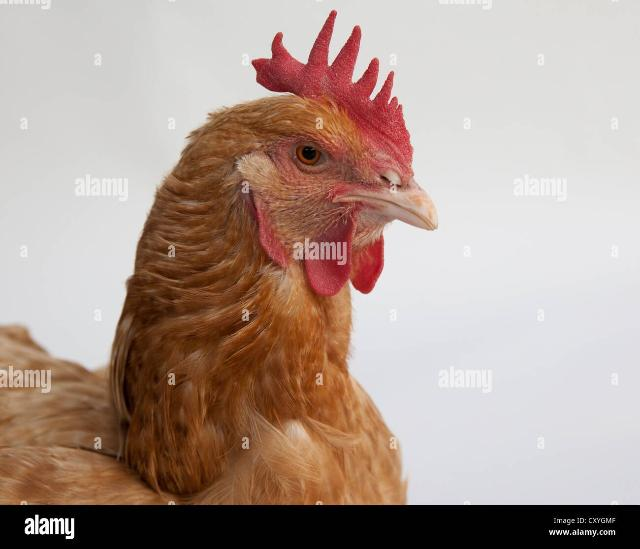Chicken: (1, 11, 439, 507)
